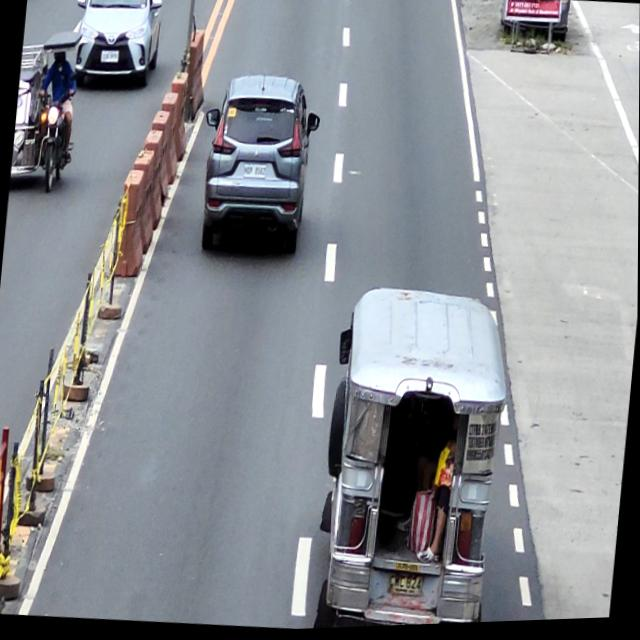Car: (193, 71, 325, 263), (68, 0, 165, 93)
Jeep: (309, 282, 516, 631)
License-Plate: (387, 574, 424, 601), (242, 166, 266, 180), (100, 50, 119, 65)
Tricycle: (9, 27, 86, 193)
